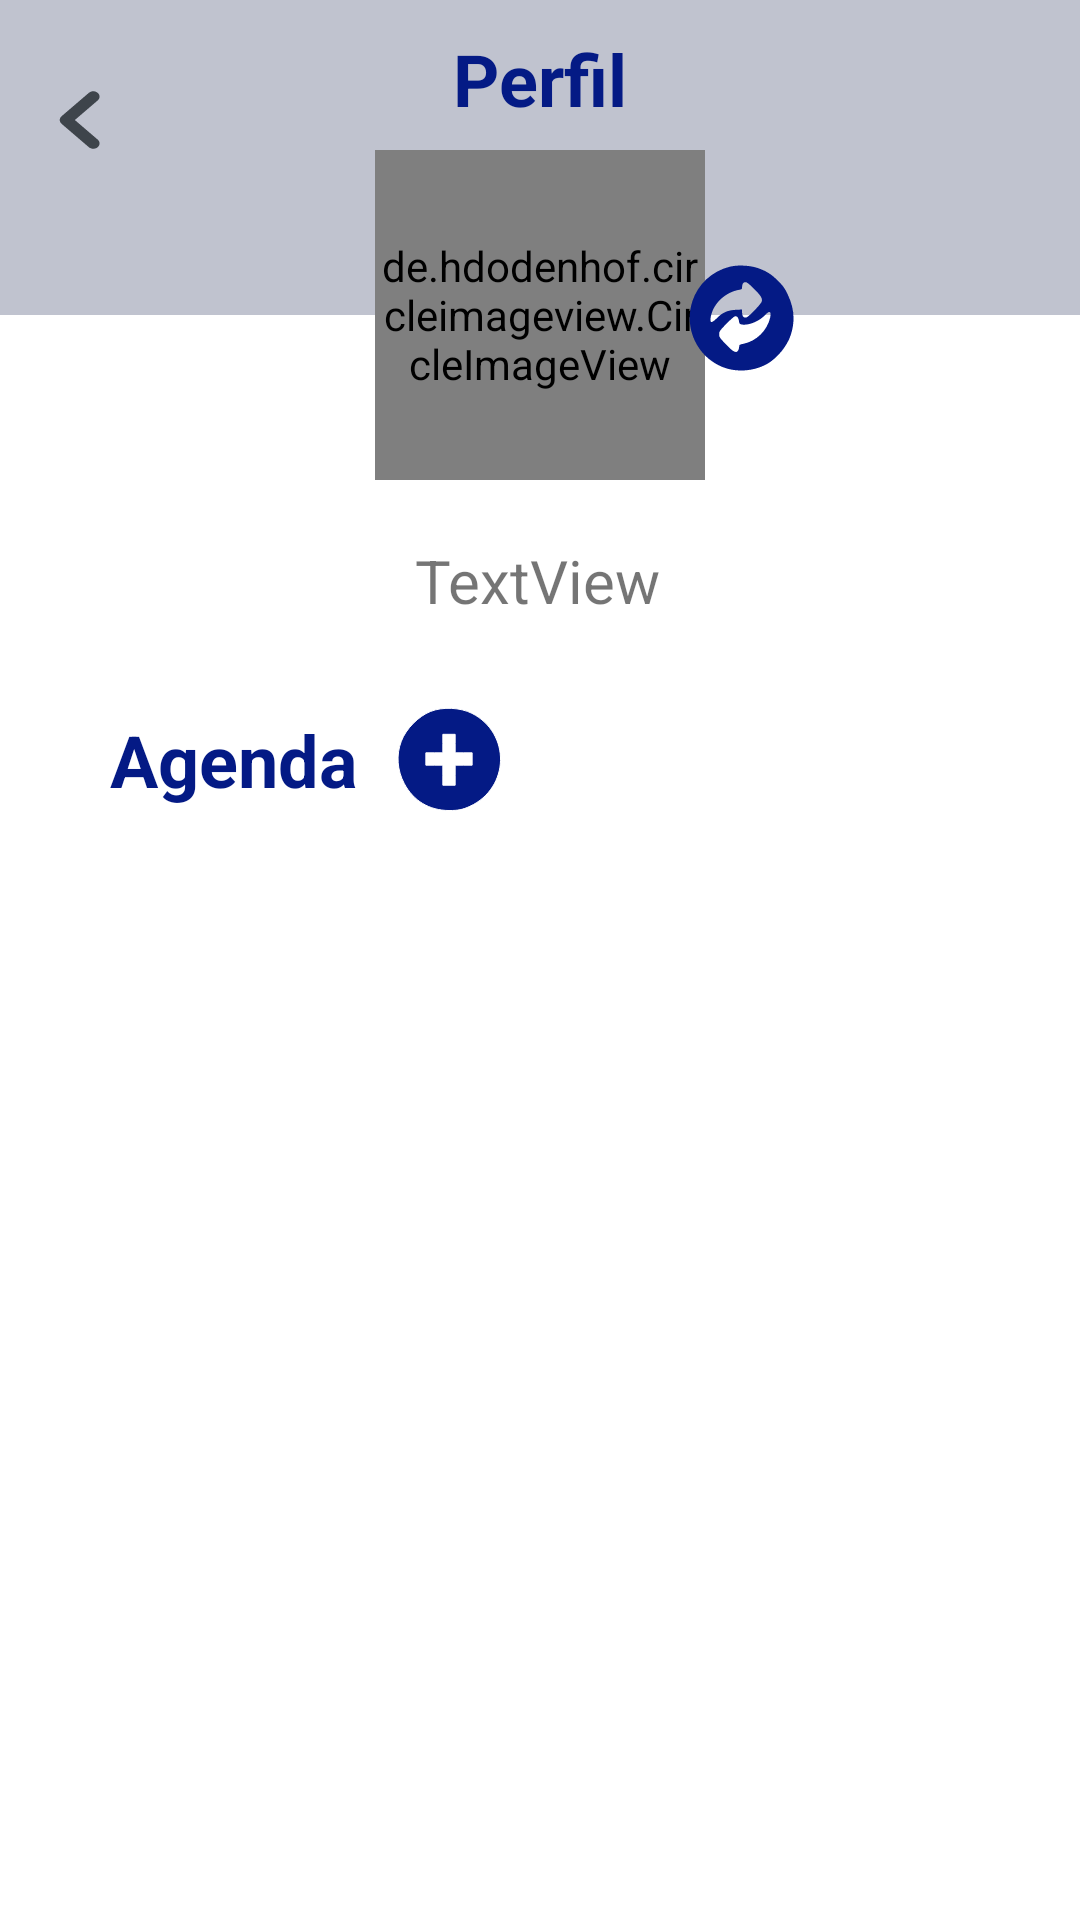

Point at icon controls on the screen. Image size 1080px x 1920px, points as point (x, y).
change: point (741, 318)
